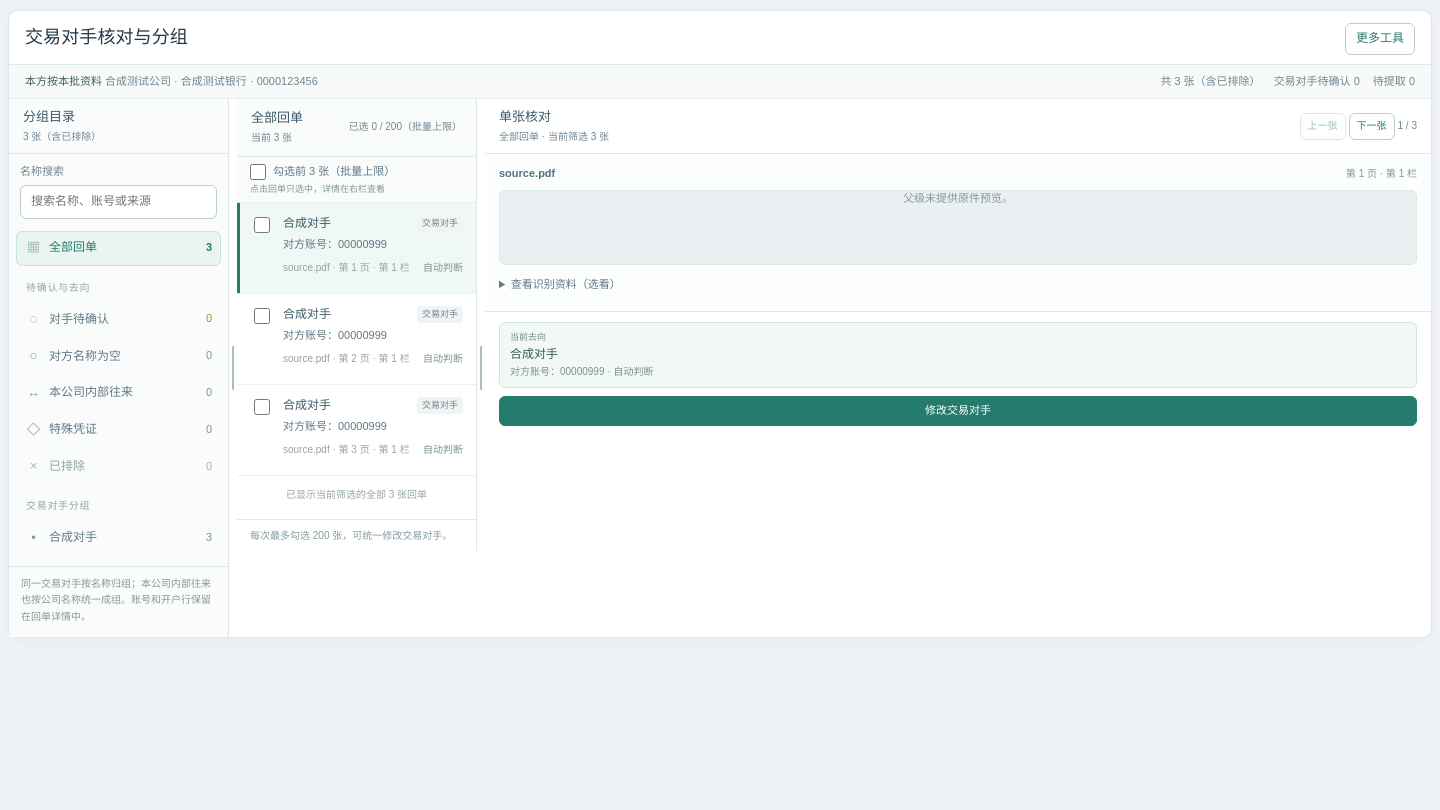
Test: 交易对手分组真实操作回归 › 批量表单选择变化后清空名称，已有名称也能修正
Click the button "修改交易对手" at (958,411), box [499, 396, 1417, 426]
(page scrolled)
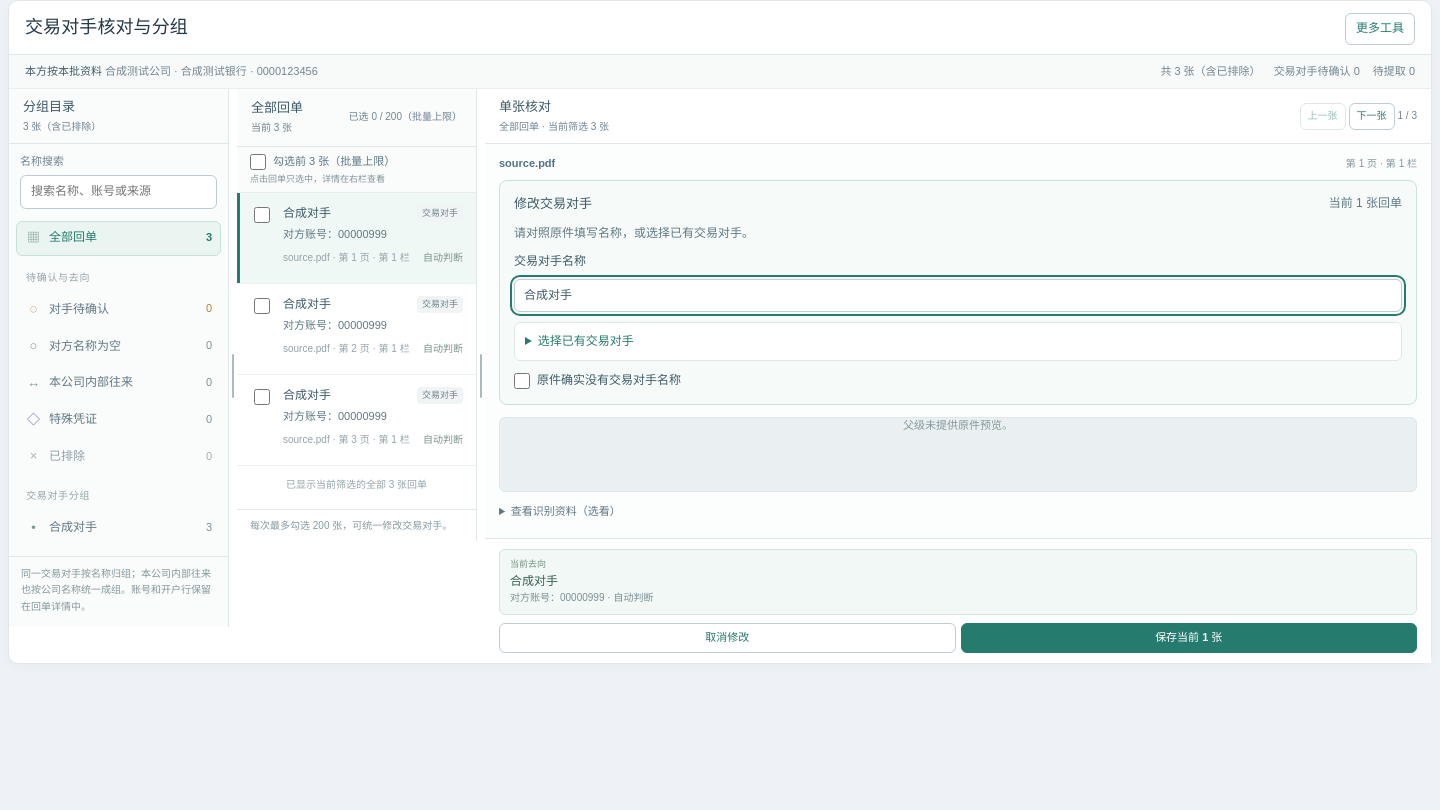
Result: the field labelled "交易对手名称" holds "合成对手"
Replace the text in the field labelled "交易对手名称" with "未保存名称" at (958,295), box [514, 279, 1402, 312]
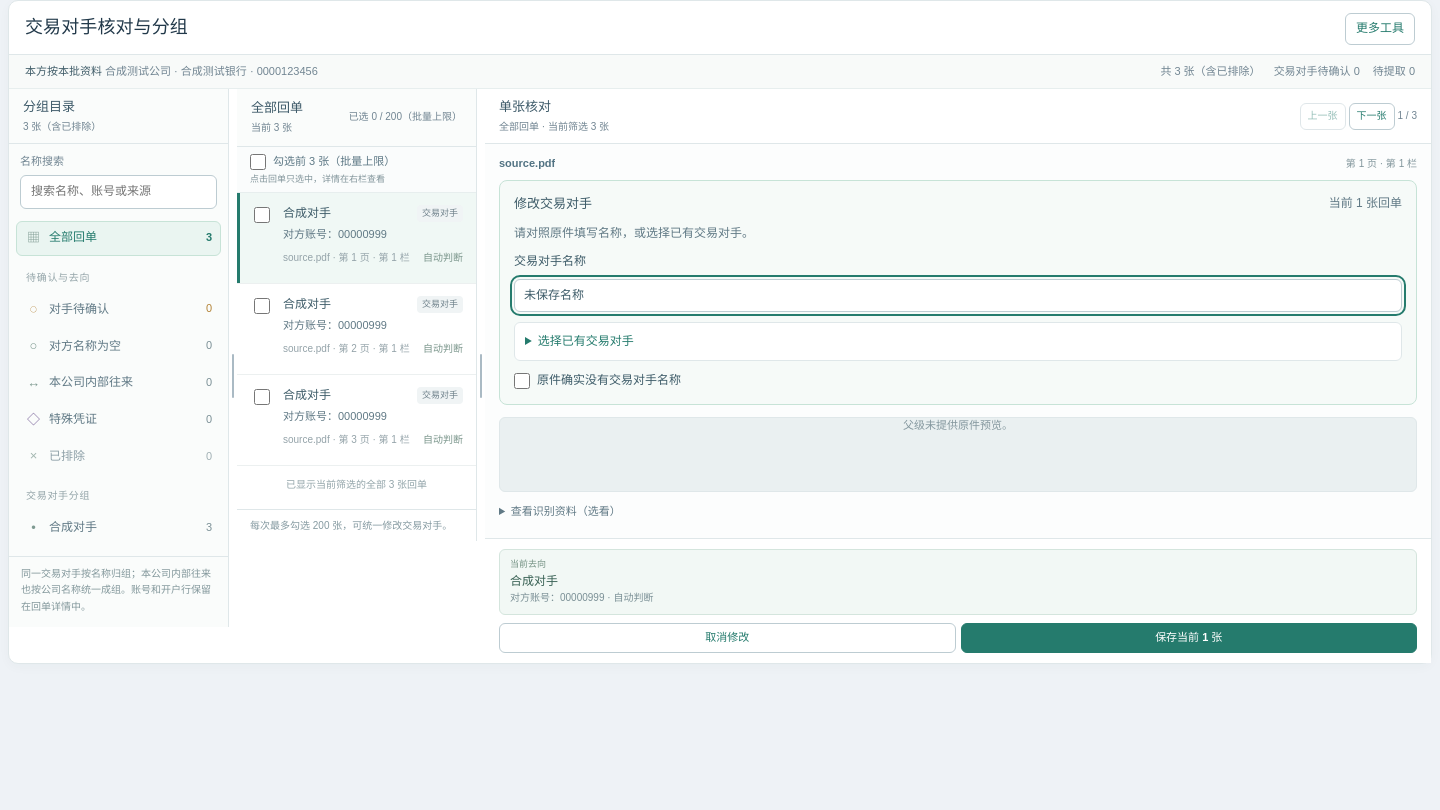
Click the checkbox labelled "勾选前 3 张（批量上限）" at (258,162), box [250, 154, 266, 170]
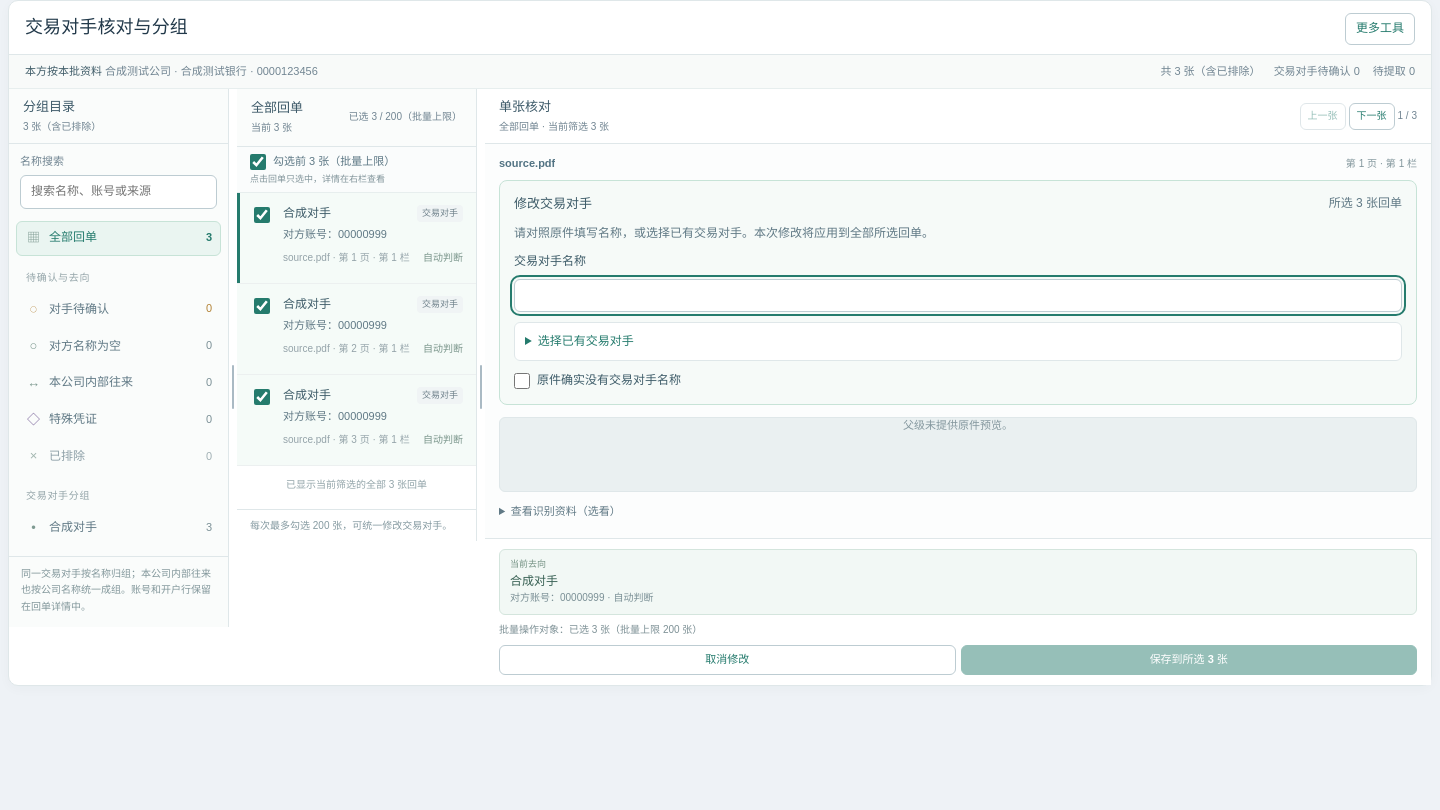
Result: the field labelled "交易对手名称" is empty at [514, 279, 1402, 312]
Result: the button "保存到所选 3 张" is disabled at [960, 645, 1417, 675]
